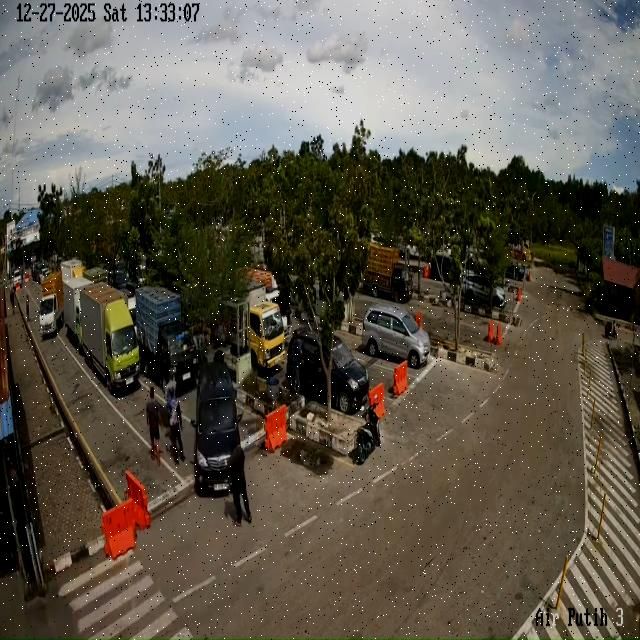Golongan IVA: (286, 328, 370, 414), (191, 361, 242, 495), (362, 305, 431, 369), (462, 271, 506, 309), (12, 269, 22, 287)
Golongan IVB: (134, 286, 198, 391), (363, 243, 413, 303)
Golongan VB: (80, 282, 140, 393), (63, 277, 92, 352), (39, 272, 64, 338), (61, 258, 84, 281)
